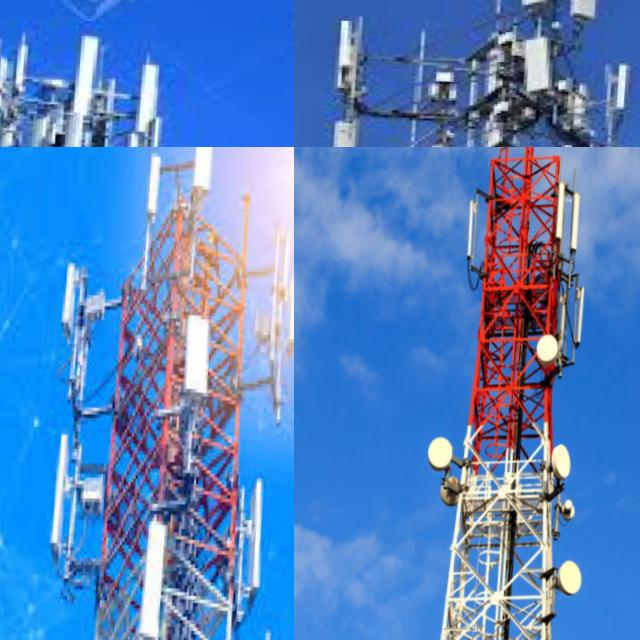GSM Antenna: (141, 508, 179, 634), (55, 427, 85, 564), (181, 304, 223, 400), (67, 31, 113, 114), (251, 471, 280, 590), (516, 28, 565, 89), (129, 52, 169, 119), (461, 188, 487, 270), (139, 147, 168, 220), (62, 256, 87, 337), (570, 275, 596, 351), (326, 114, 371, 147), (570, 182, 588, 261), (552, 172, 572, 242), (188, 147, 218, 191), (64, 106, 95, 147), (569, 0, 607, 24), (22, 115, 50, 147), (284, 263, 294, 341)
Microwave Antenna: (560, 550, 605, 608), (534, 322, 570, 379), (427, 429, 466, 472), (553, 436, 584, 483), (443, 470, 477, 509), (563, 495, 587, 522)
